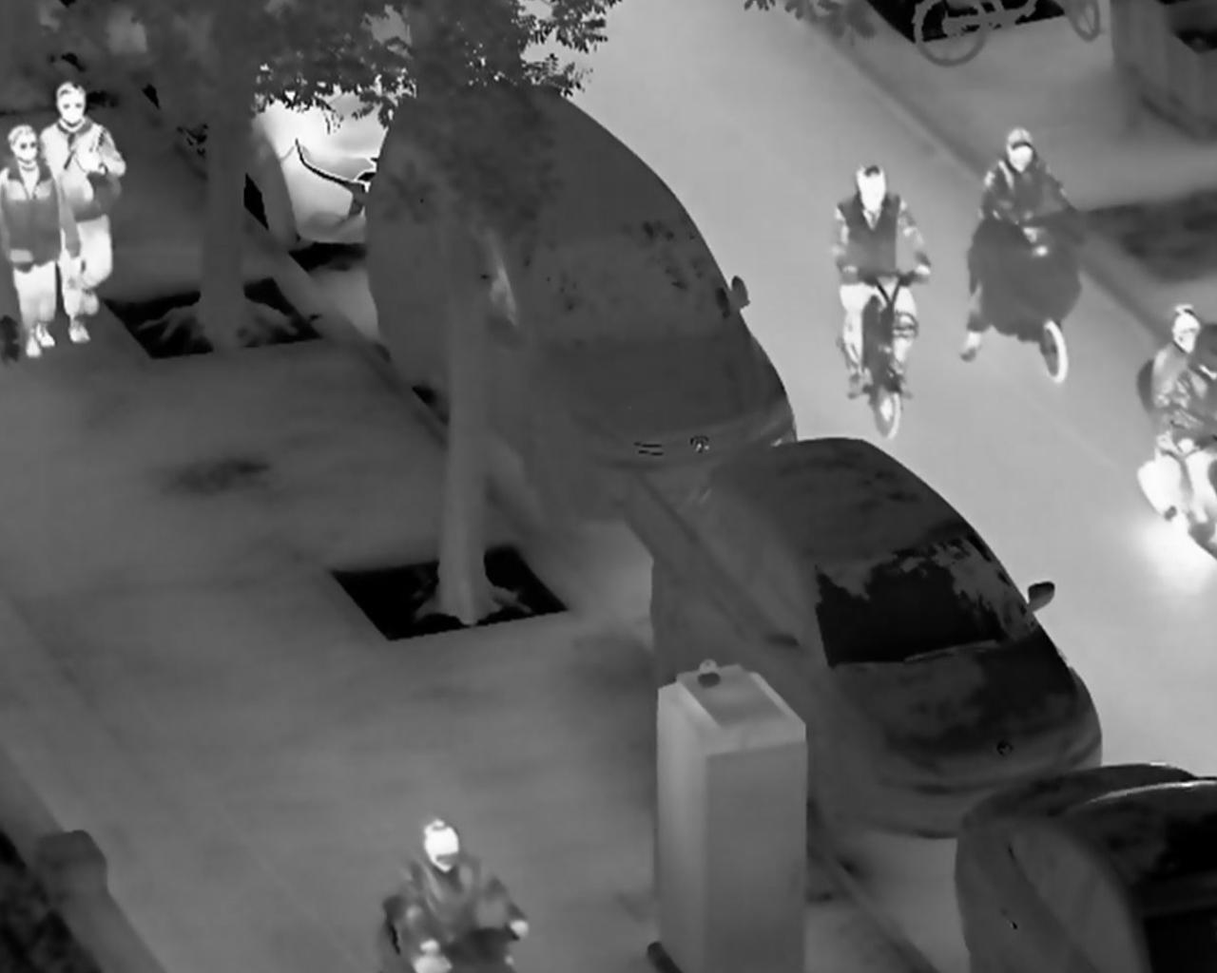person: (959, 124, 1091, 360), (835, 165, 936, 398), (39, 85, 129, 344), (397, 815, 528, 973), (1167, 317, 1217, 511), (1145, 296, 1190, 506)
